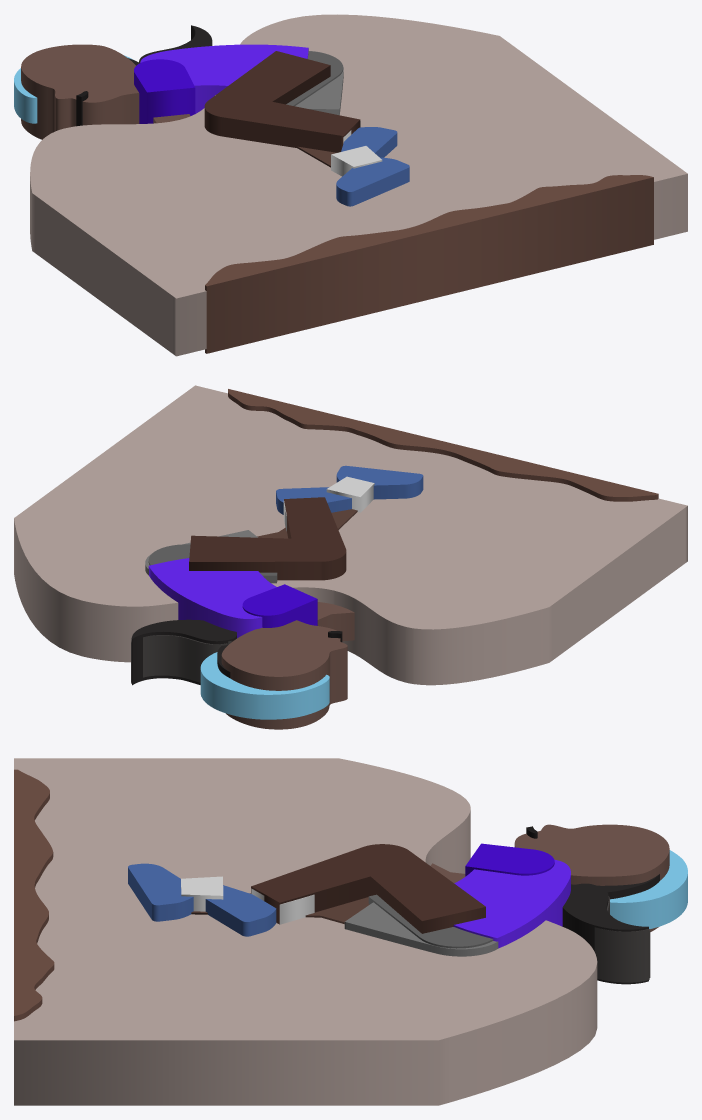
File: emoji_u1f6b5_1f3ff_200d_2640.glb
3 renders of one model, top to bottom at view 1: azimuth 30°, elevation 25°; view 2: azimuth 150°, elevation 25°; view 3: azimuth 270°, elevation 25°, orthographic. The views are drawn at different scales.
Visible parts, largest first — view 1: emoji_u1f6b5_1f3ff_200d_2640; view 2: emoji_u1f6b5_1f3ff_200d_2640; view 3: emoji_u1f6b5_1f3ff_200d_2640.
Part boxes in pixels (bbox=[...]): emoji_u1f6b5_1f3ff_200d_2640: bbox=[14, 14, 687, 356]; emoji_u1f6b5_1f3ff_200d_2640: bbox=[14, 385, 687, 729]; emoji_u1f6b5_1f3ff_200d_2640: bbox=[14, 758, 687, 1105].
Size of the model in its own units: 0.0333 by 0.006 by 0.0336.
